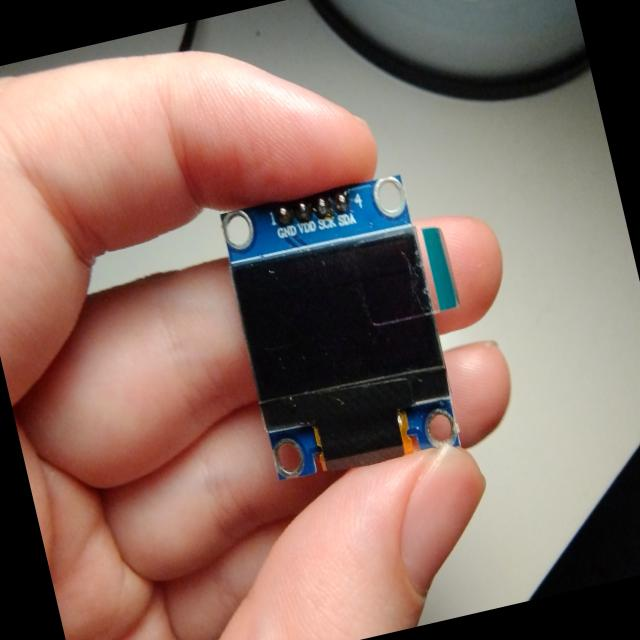oled: (202, 150, 500, 504)
